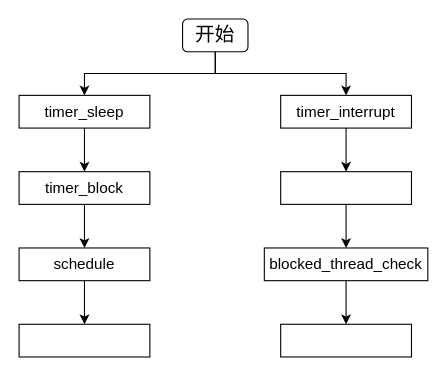
Image size: 447x376. Some labels were removed from this diagram. The shapes that lost their labels are listed below. From the top down, each one's centre as x and y in pixels, then its label:
At (x=345, y=187): "timer_foreach".
At (x=84, y=340): "switch_threads".
At (x=345, y=340): "thread_unblock".
